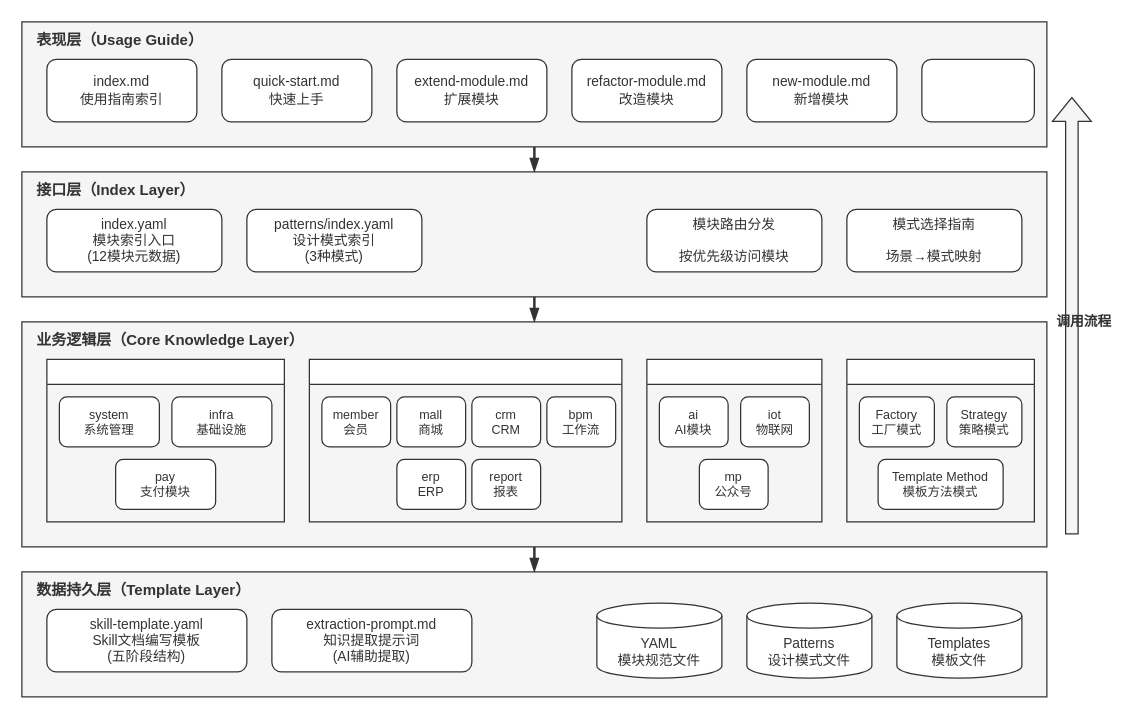
Image size: 1144x719. Some labels were removed from this diagram. The shapes that lost their labels are listed below. From the top down, each one's box as (x1, y1, x2, y2) in pixels, then its label:
(921, 58, 1034, 122): pattern-usage.md 模式应用
(46, 358, 284, 522): 核心模块 (P1)
(308, 358, 622, 522): 业务模块 (P2)
(646, 358, 822, 522): 扩展模块 (P3)
(846, 358, 1034, 522): 设计模式
